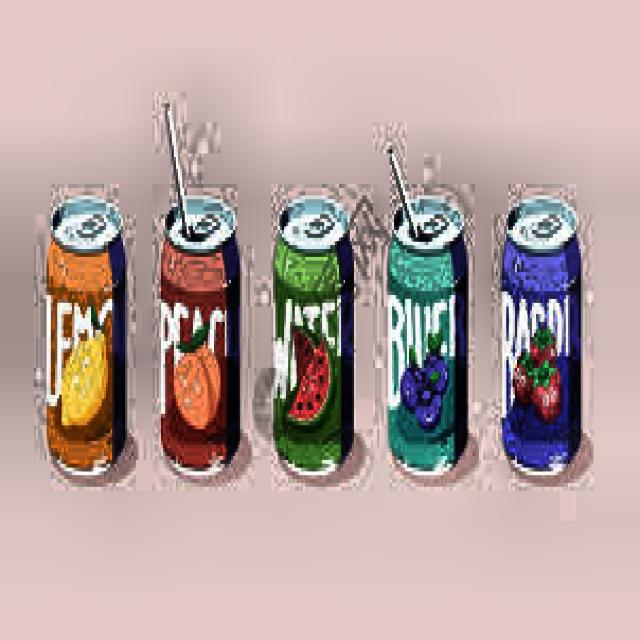can: (494, 184, 588, 491), (39, 190, 132, 486), (271, 186, 360, 484), (383, 192, 473, 486), (157, 187, 244, 488)
